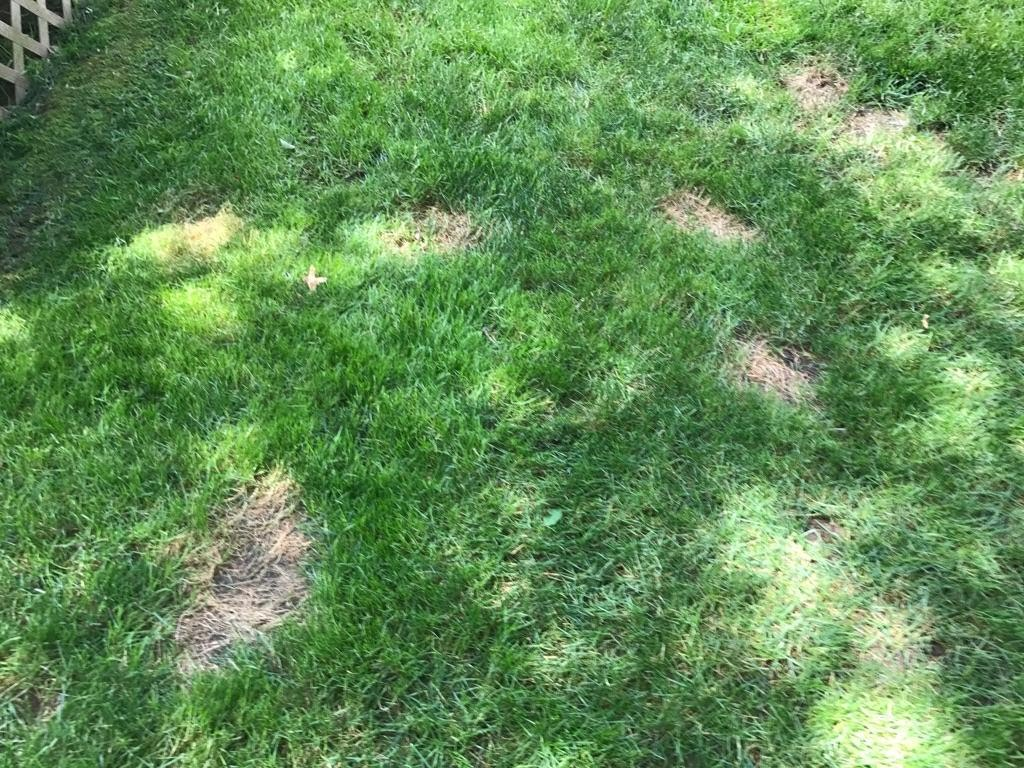crabgrass: (435, 492, 651, 627), (22, 578, 159, 728), (350, 681, 487, 768), (449, 350, 541, 420)
